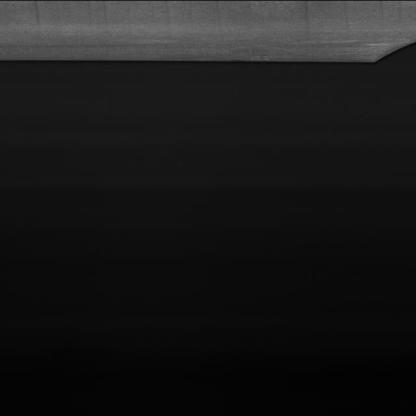crescent_gap: (353, 32, 416, 69)
